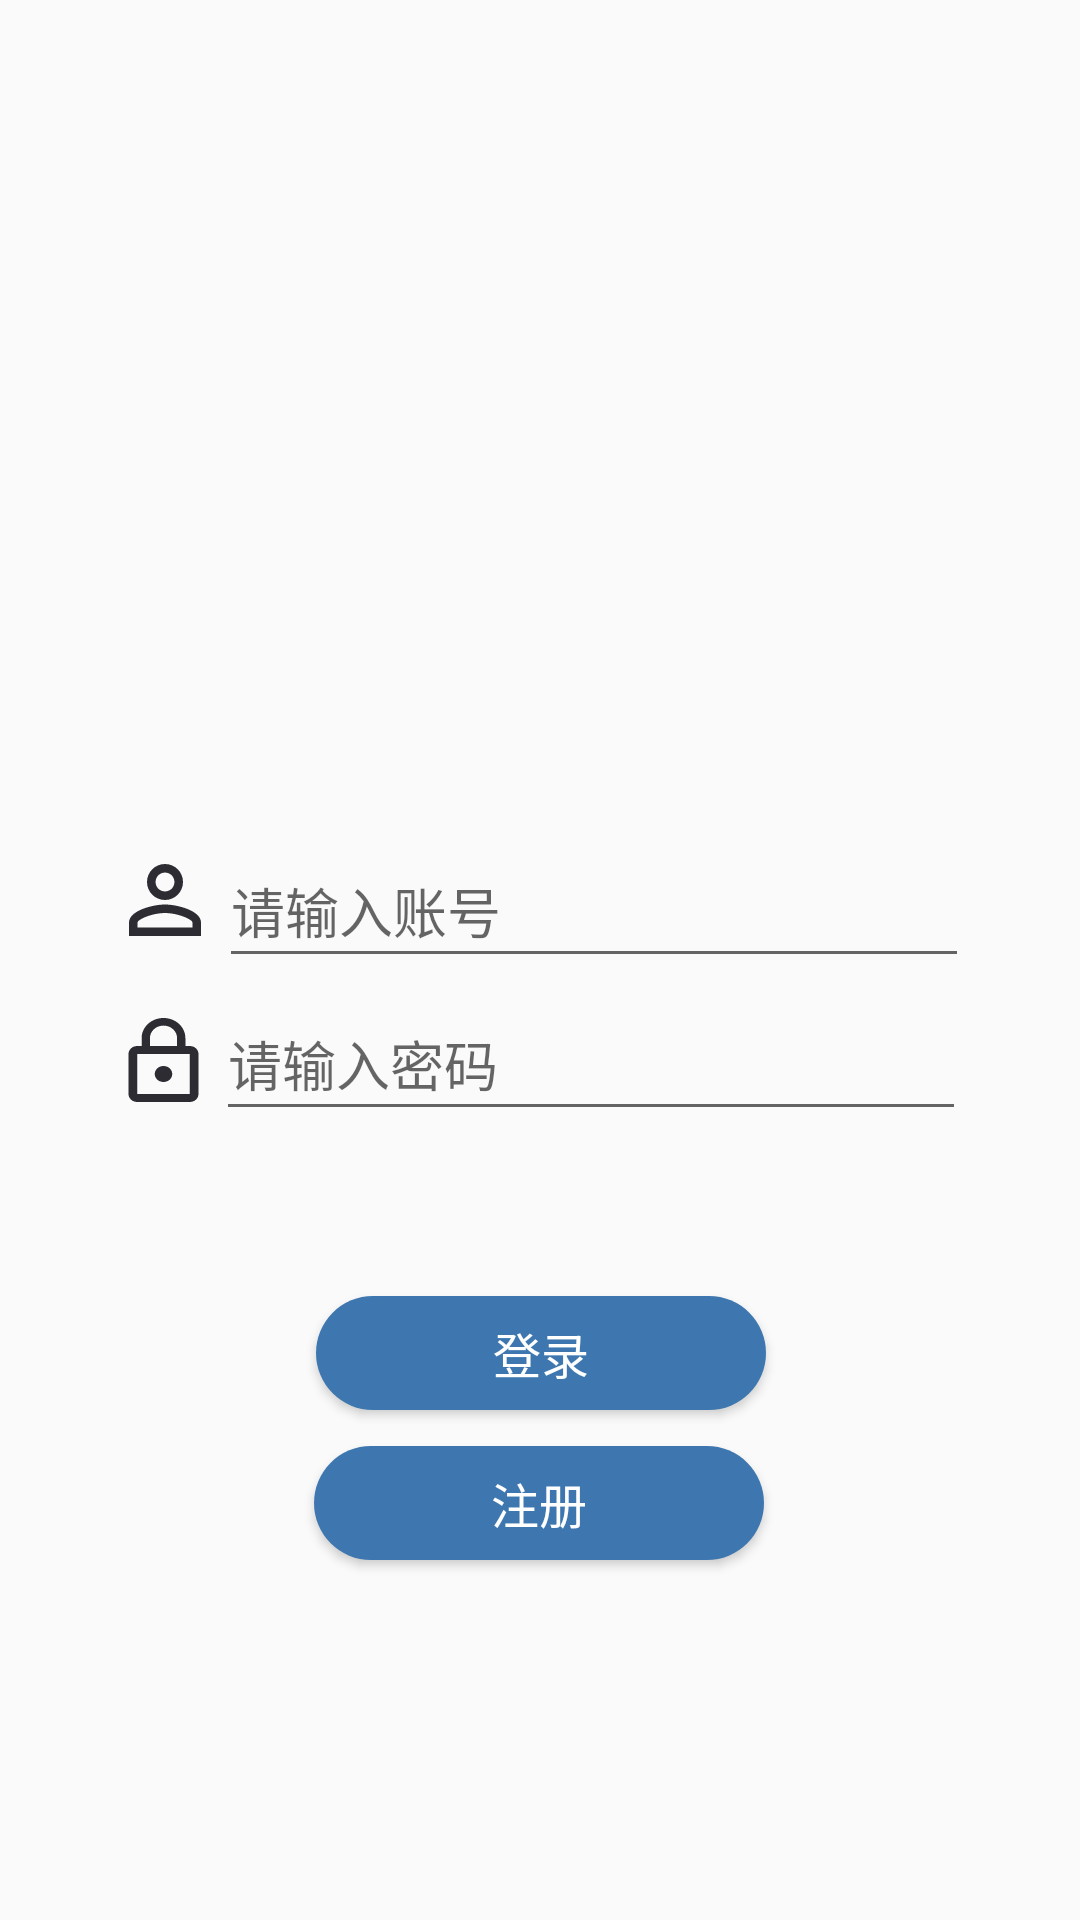

Screen size 1080*1920. Icon name, then its box in pixels as Rect(x1, y1, x2, y2):
lock: Rect(128, 1018, 199, 1102)
person: Rect(129, 864, 201, 936)
